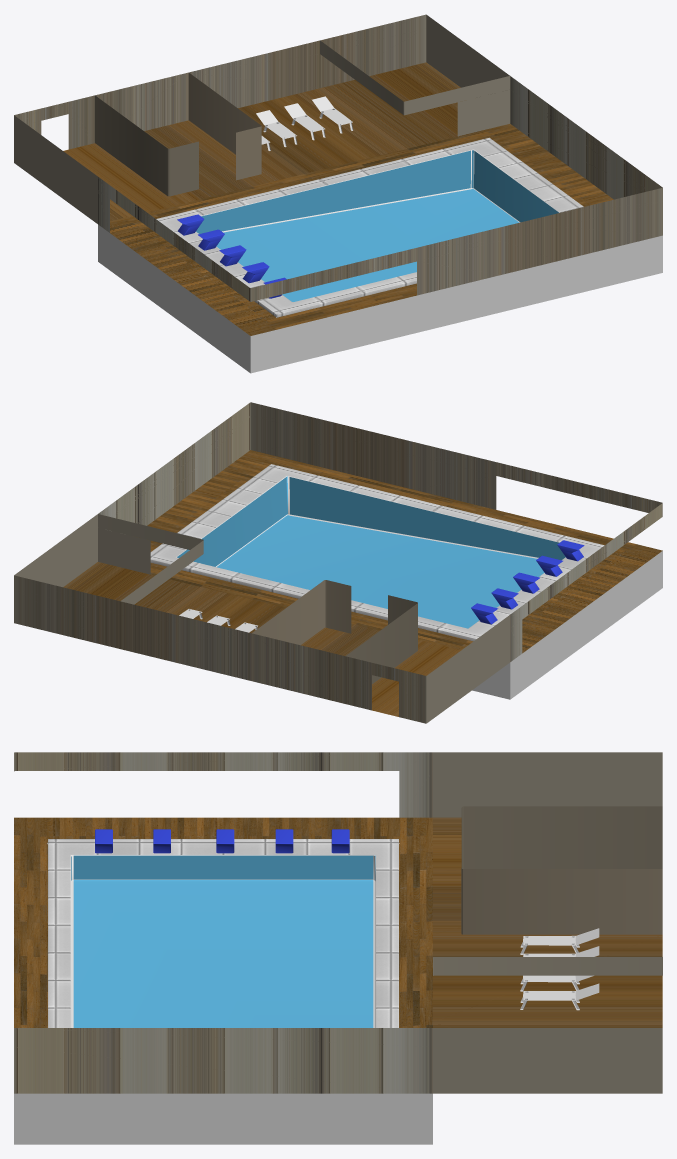
Rendered from piscina_04.glb.
The picture shows the model from 3 angles, top to bottom: view 1: azimuth 30°, elevation 25°; view 2: azimuth 150°, elevation 25°; view 3: azimuth 270°, elevation 25°; orthographic projection. The views are drawn at different scales.
Visible parts, largest first — view 1: Plane.001, Plane.002, Plane.005, Piso_02, Piso_01, borde, esas; view 2: Plane.001, Plane.002, Piso_01, borde, Piso_02, Plane.005, esas; view 3: Plane.001, Plane.002, Plane.005, Piso_01, Piso_02, borde, esas.
Part boxes in pixels (left/top/right/bottom): Plane.001: left=14, top=14, right=662, bottom=301; Plane.002: left=196, top=150, right=558, bottom=301; Plane.005: left=98, top=96, right=662, bottom=373; Piso_02: left=63, top=62, right=460, bottom=221; Piso_01: left=110, top=124, right=613, bottom=335; borde: left=156, top=137, right=583, bottom=317; esas: left=177, top=214, right=286, bottom=298; Plane.001: left=14, top=402, right=662, bottom=723; Plane.002: left=177, top=476, right=565, bottom=628; Piso_01: left=147, top=450, right=662, bottom=653; borde: left=150, top=464, right=604, bottom=641; Piso_02: left=63, top=562, right=460, bottom=716; Plane.005: left=176, top=476, right=662, bottom=699; esas: left=471, top=540, right=584, bottom=624; Plane.001: left=14, top=752, right=662, bottom=1093; Plane.002: left=71, top=855, right=375, bottom=1027; Plane.005: left=14, top=843, right=599, bottom=1144; Piso_01: left=14, top=817, right=432, bottom=1027; Piso_02: left=433, top=817, right=662, bottom=1027; borde: left=48, top=839, right=398, bottom=1027; esas: left=95, top=829, right=349, bottom=853.
Size of the model in its own units: 1.72 by 0.3404 by 1.71.
5 materials, 3 textured.
